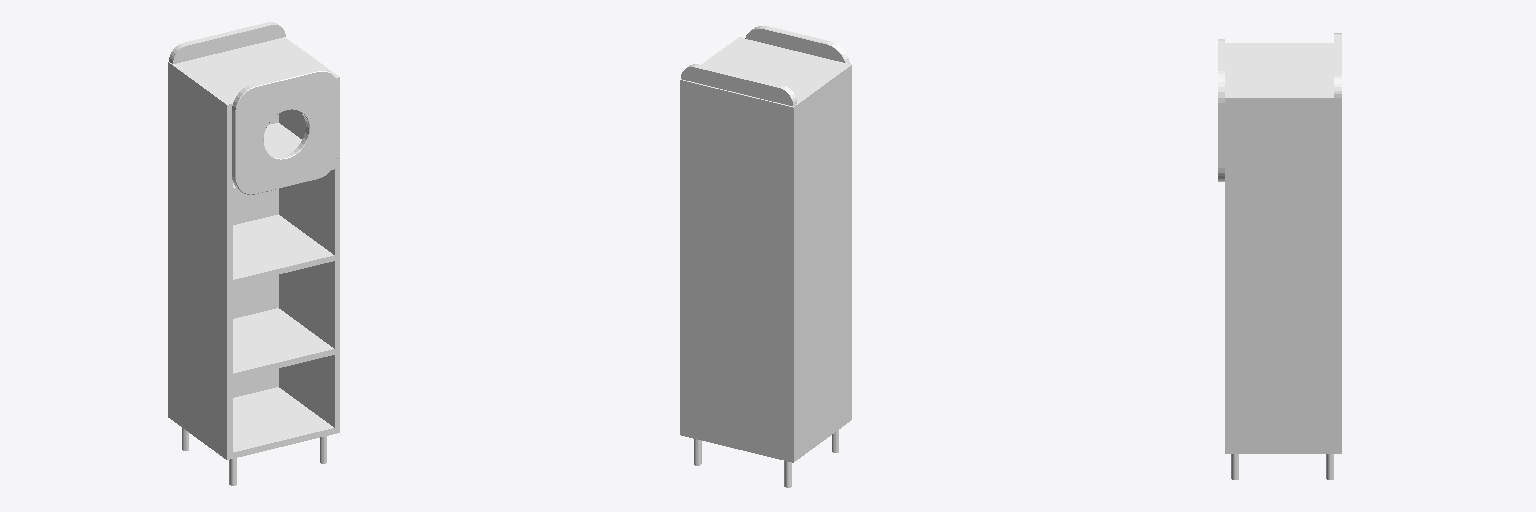
The model's file is shelf2.obj.
3 renders of one model, left to right at view 1: azimuth 30°, elevation 25°; view 2: azimuth 150°, elevation 25°; view 3: azimuth 270°, elevation 25°, orthographic.
Visible parts, largest first — view 1: shelf2; view 2: shelf2; view 3: shelf2.
Boxes of the visible parts, <box> form: shelf2: <box>168,22,339,485</box>; shelf2: <box>680,26,851,487</box>; shelf2: <box>1218,33,1341,479</box>.
Bounding box in the file's own units: 0.8125 × 2.75 × 0.774.